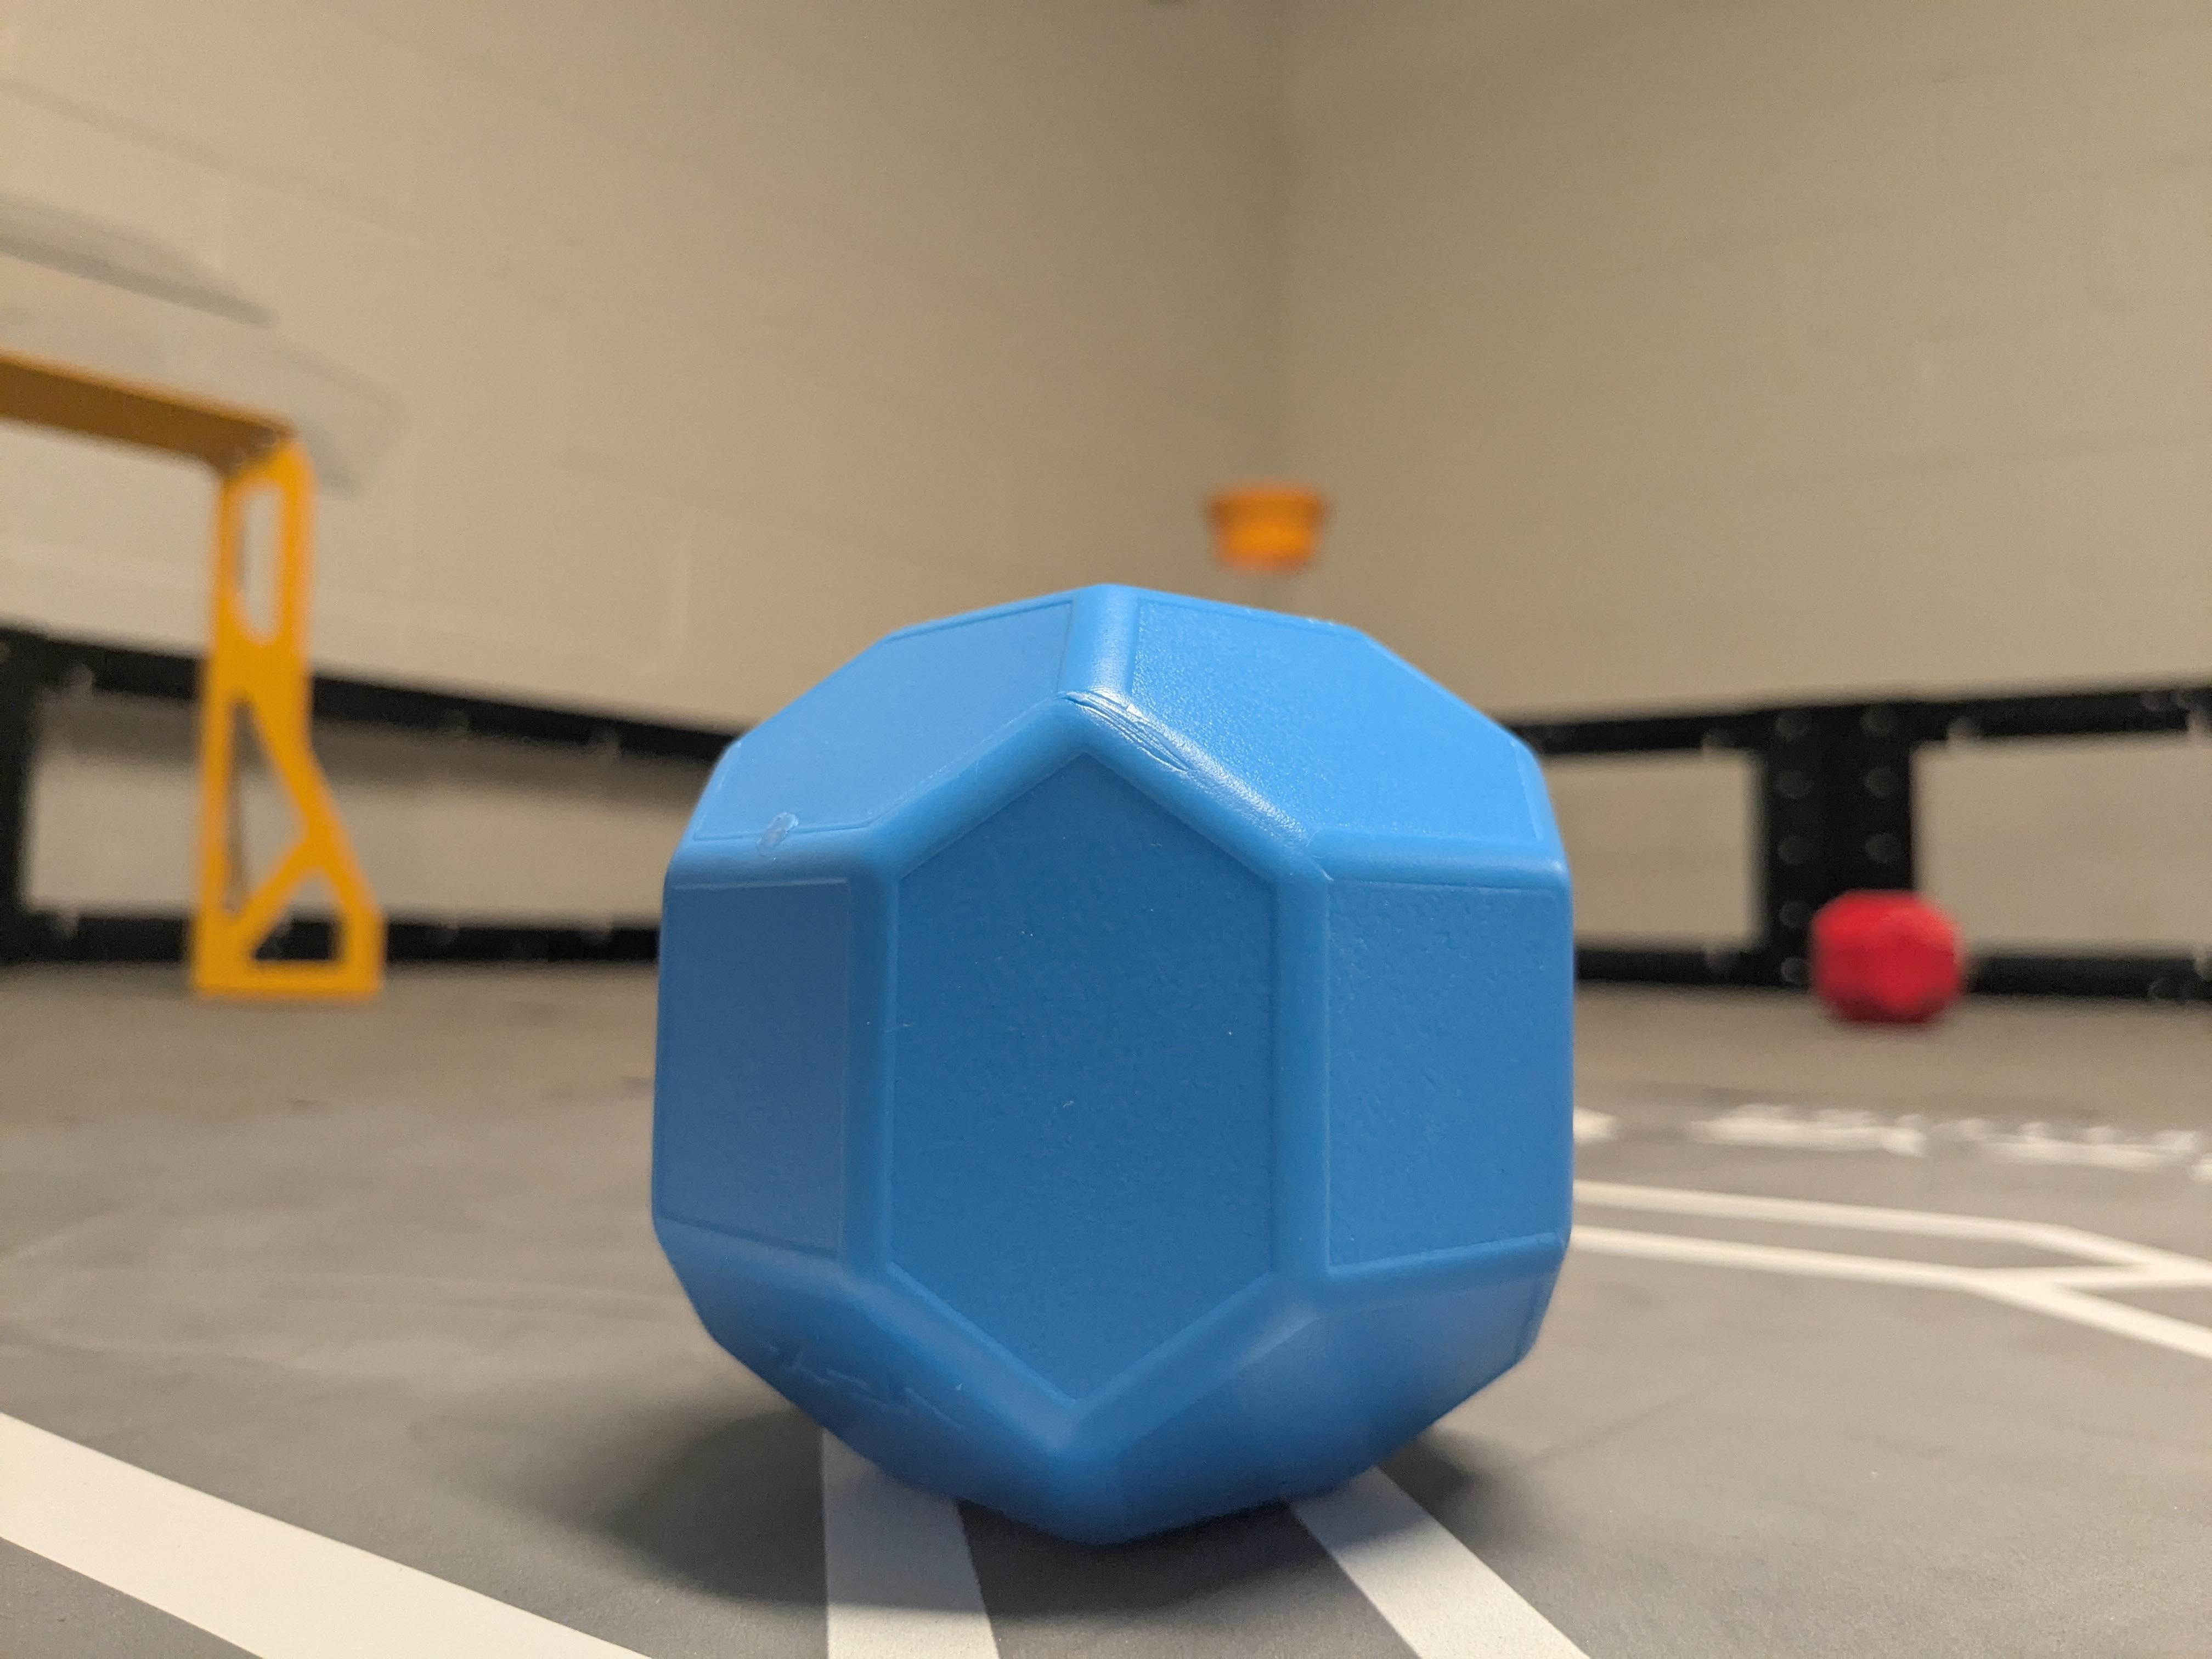Vex-Pieces-BLUE: (653, 586, 1573, 1542)
